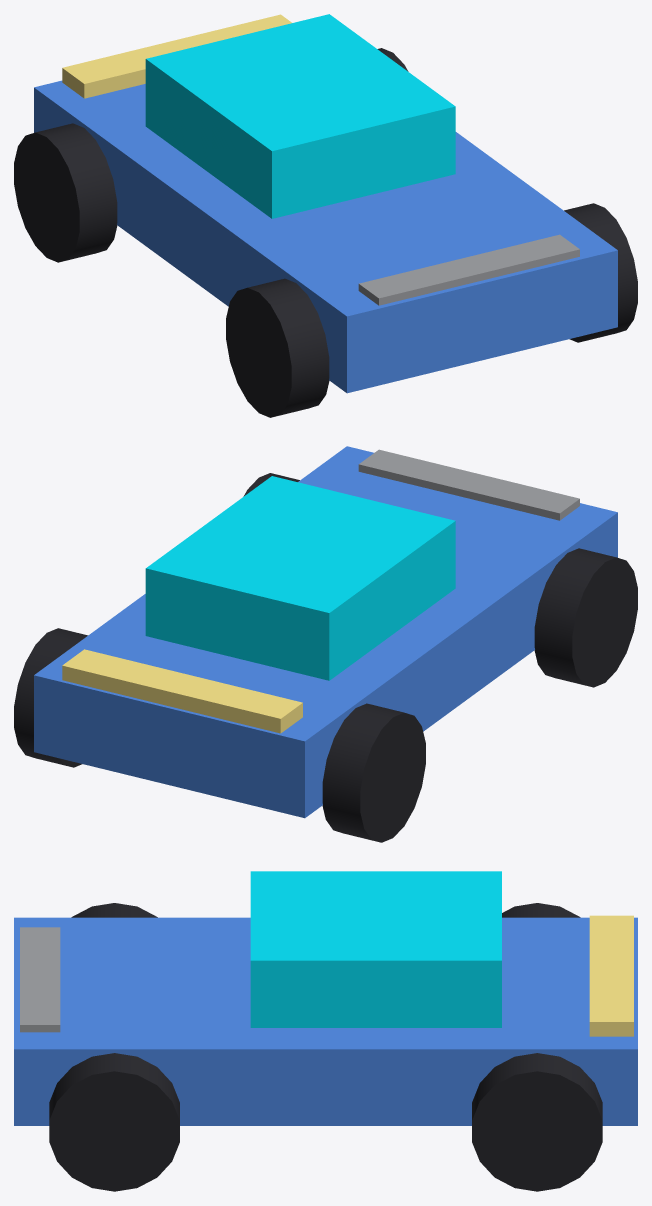
The model's file is player_car.glb.
3 views of the same model, one above another, from view 1: azimuth 30°, elevation 25°; view 2: azimuth 150°, elevation 25°; view 3: azimuth 270°, elevation 25° (orthographic).
Parts seen in each view (by area): view 1: player_car; view 2: player_car; view 3: player_car.
Part boxes in pixels (left/top/right/bottom): player_car: left=14, top=14, right=637, bottom=417; player_car: left=14, top=446, right=637, bottom=842; player_car: left=14, top=871, right=637, bottom=1191.
Bounding box in the file's own units: 1.98 × 1.05 × 3.1.
